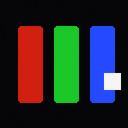1 square: (104, 73, 120, 89)
